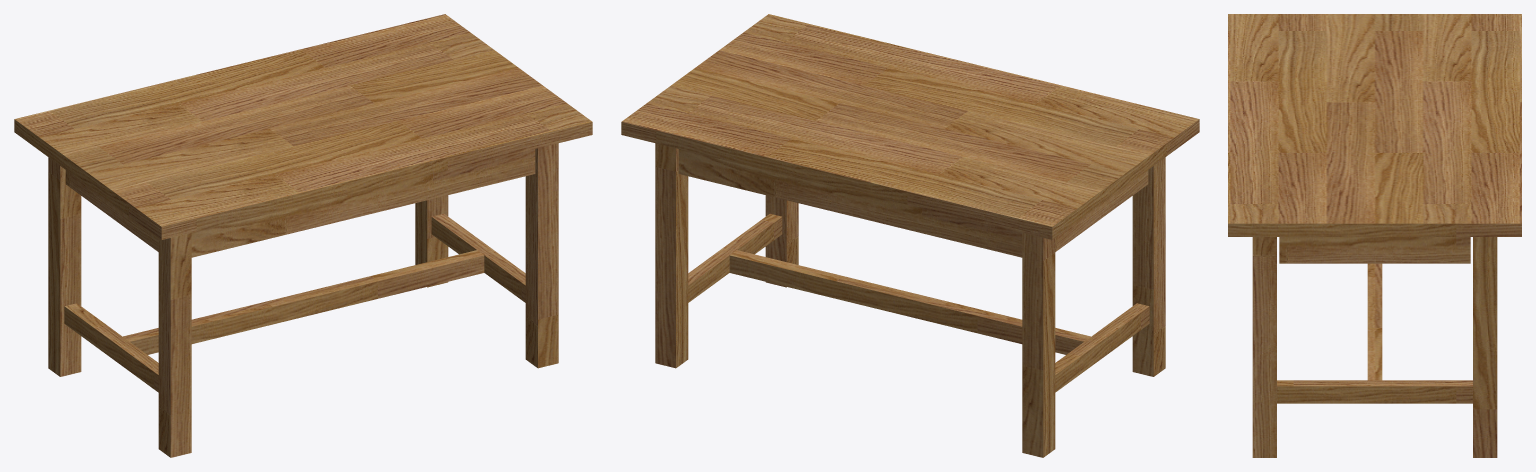
The model's file is T_TAble remake.fbx.
3 views of the same model, side by side, from view 1: azimuth 30°, elevation 25°; view 2: azimuth 150°, elevation 25°; view 3: azimuth 270°, elevation 25° (orthographic).
Visible parts, largest first — view 1: T_Table; view 2: T_Table; view 3: T_Table.
Boxes of the visible parts, <box> form: T_Table: <box>14,14,592,457</box>; T_Table: <box>621,14,1199,457</box>; T_Table: <box>1228,14,1521,457</box>.
Bounding box in the file's own units: 103 × 56 × 60.96.
